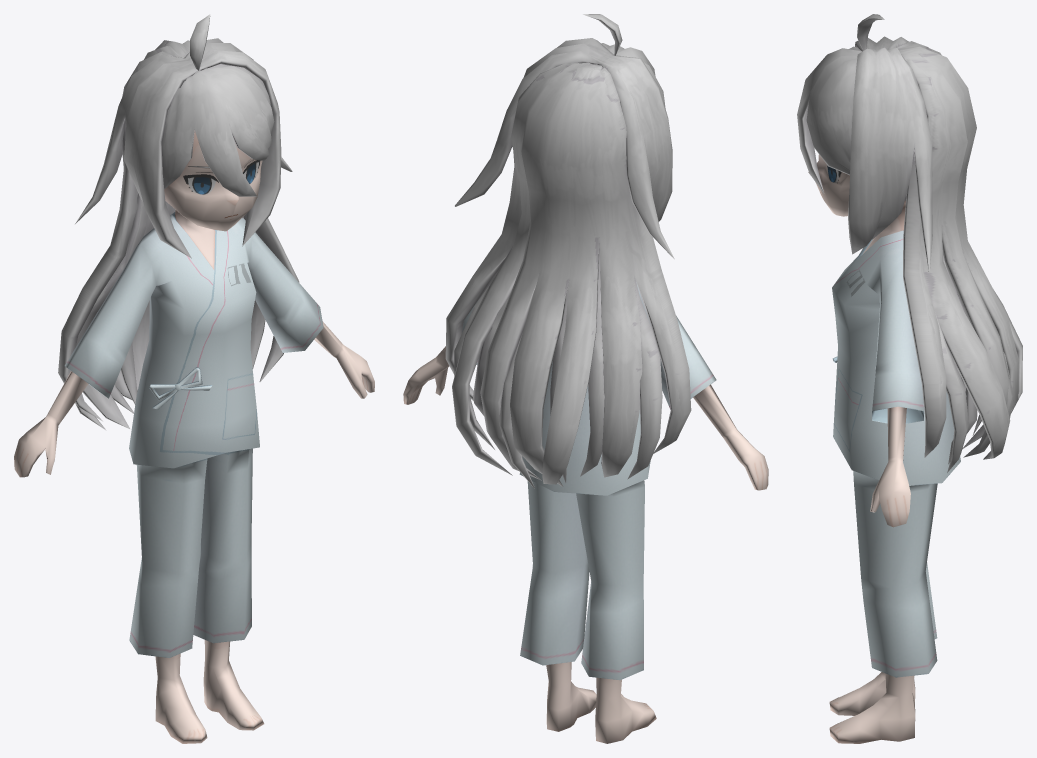
The picture shows the model from 3 angles, left to right: view 1: azimuth 30°, elevation 25°; view 2: azimuth 150°, elevation 25°; view 3: azimuth 270°, elevation 25°; orthographic projection.
Parts seen in each view (by area): view 1: body1, sidehair, fronthair1, backhair, innerhair; view 2: backhair, body1, sidehair, innerhair, fronthair1; view 3: body1, backhair, sidehair, fronthair1, innerhair.
Boxes of the visible parts, x1=… form: body1: x1=14, y1=130, x2=374, y2=743; sidehair: x1=75, y1=38, x2=292, y2=258; fronthair1: x1=161, y1=14, x2=274, y2=196; backhair: x1=58, y1=40, x2=299, y2=428; innerhair: x1=76, y1=193, x2=265, y2=430; backhair: x1=445, y1=62, x2=691, y2=486; body1: x1=403, y1=282, x2=768, y2=743; sidehair: x1=455, y1=38, x2=674, y2=259; innerhair: x1=454, y1=241, x2=662, y2=488; fronthair1: x1=583, y1=14, x2=665, y2=108; body1: x1=808, y1=154, x2=960, y2=743; backhair: x1=897, y1=41, x2=1022, y2=459; sidehair: x1=848, y1=36, x2=932, y2=271; fronthair1: x1=797, y1=14, x2=884, y2=193; innerhair: x1=934, y1=255, x2=1013, y2=472.
Bounding box in the file's own units: 83.71 × 159 × 45.87.
1 material, 1 textured.
